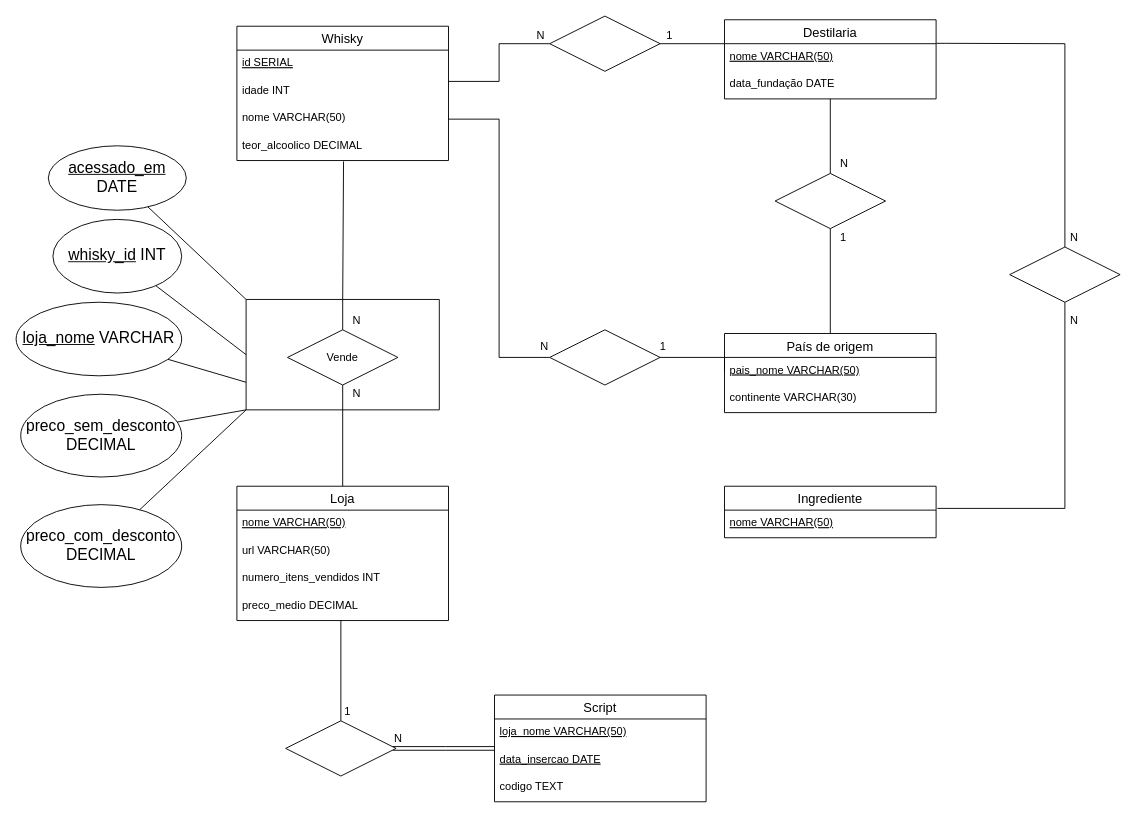
Image size: 1136x821. Some labels were removed from this diagram. Here are the shapes that lost their labels. From the top down, the centre of each, then its label:
At [604,43]: "Destilado por".
At [830,200]: "Situado em".
At [1064,274]: "Utiliza".
At [342,354]: "histórico".
At [604,357]: "Originado em".
At [340,748]: "Possui".
